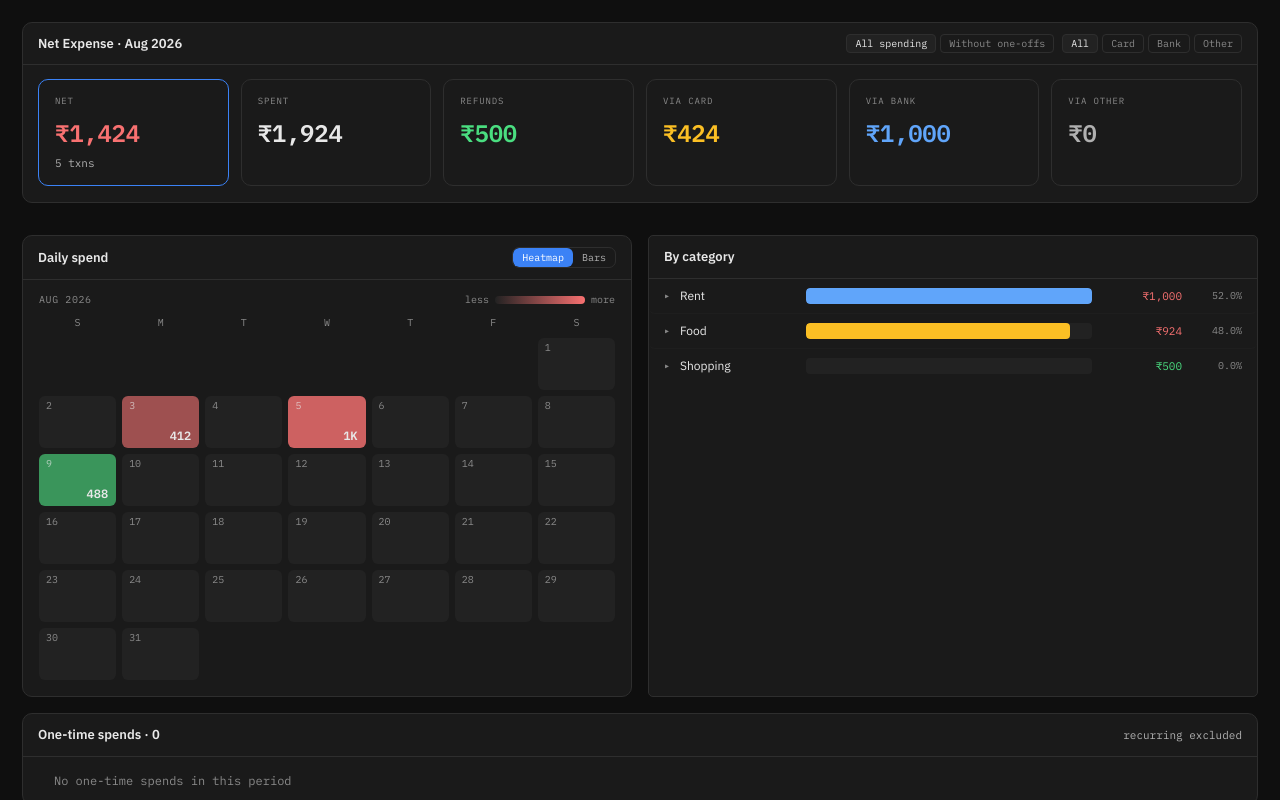
Test: ExpenseOverview › under the Card filter, a day's modal keeps only card-funded rows
This screenshot has width=1280, height=800.
Expected: the text "Net Expense · Aug 2026" is shown, x1=38 y1=35 x2=182 y2=52
Step 1. Click the button "Card" → {"x": 1123, "y": 44}, box x1=1102 y1=34 x2=1144 y2=53
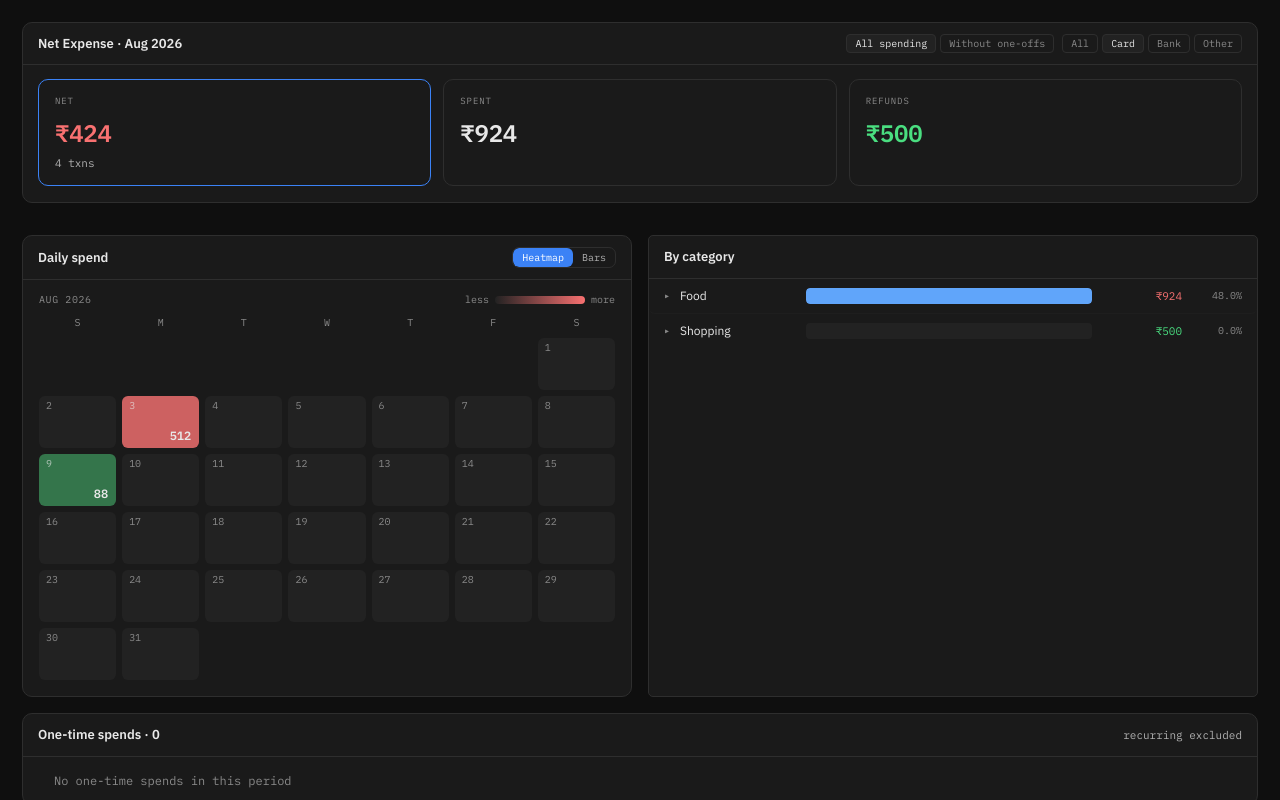
Step 2. Click the button named "3 Aug 2026" → {"x": 161, "y": 422}, box x1=122 y1=396 x2=199 y2=448
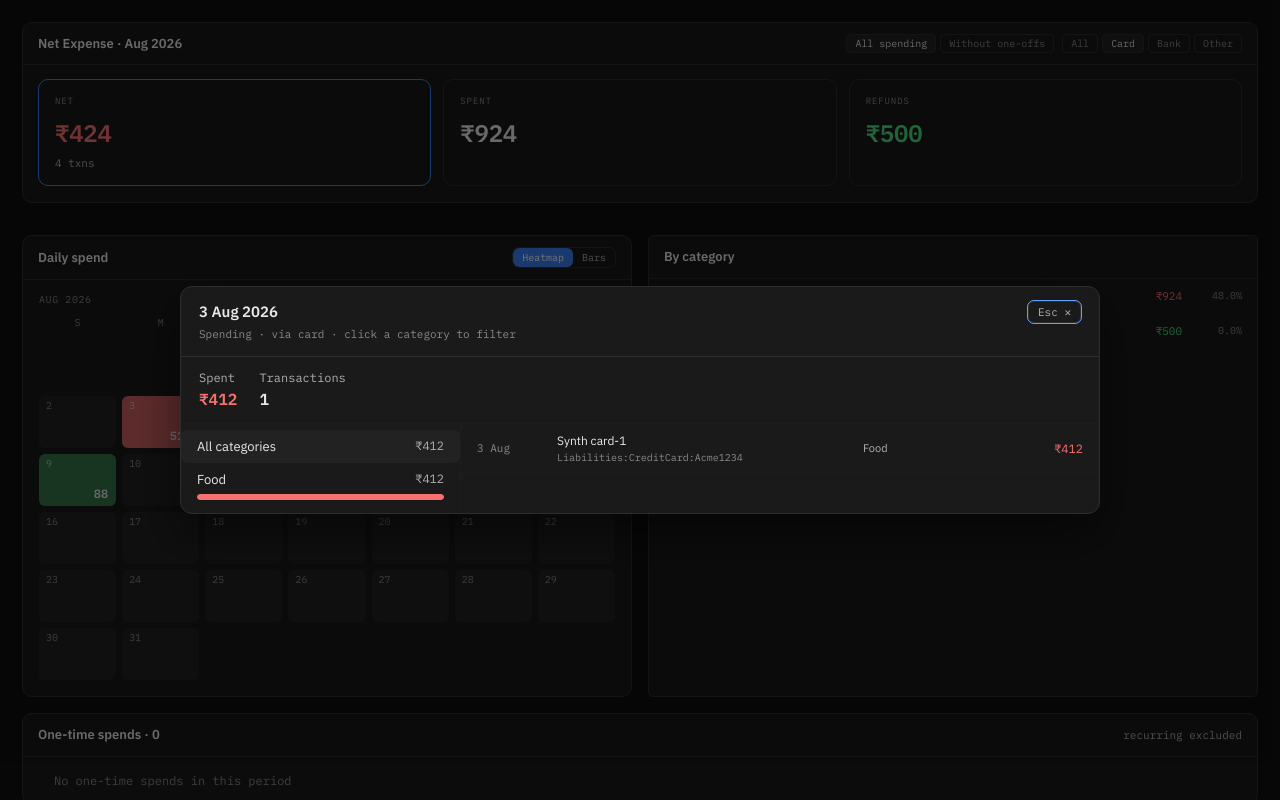
Expected: the number of elements with class "dmodal-row" is 1, x1=461 y1=424 x2=1099 y2=474
Expected: the text "Synth card-1" is shown, x1=557 y1=433 x2=626 y2=448
Expected: the 1st text "₹412" is shown, x1=199 y1=387 x2=237 y2=411
